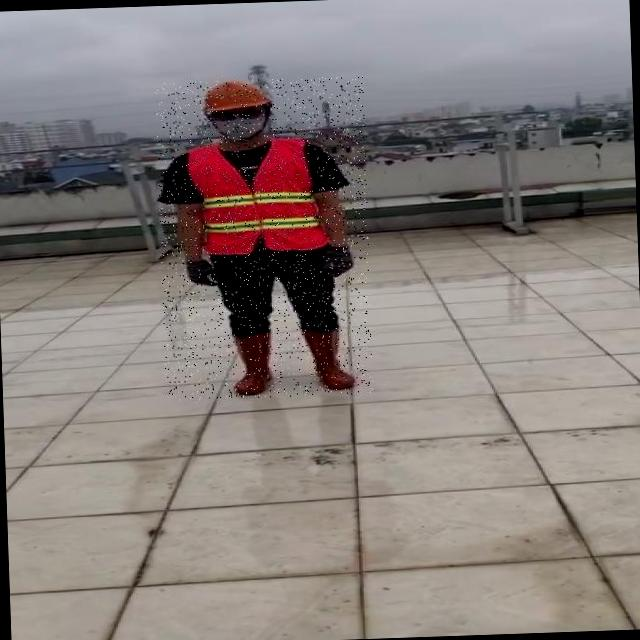boots: (301, 326, 358, 392), (226, 328, 278, 396)
gloves: (308, 230, 358, 288), (175, 240, 222, 290)
helmet: (196, 78, 272, 114)
vest: (186, 137, 328, 255)
